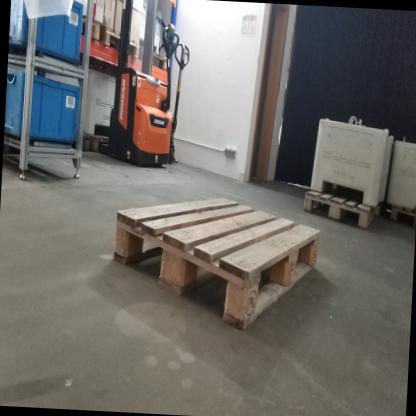BoxFace: (109, 191, 323, 339)
